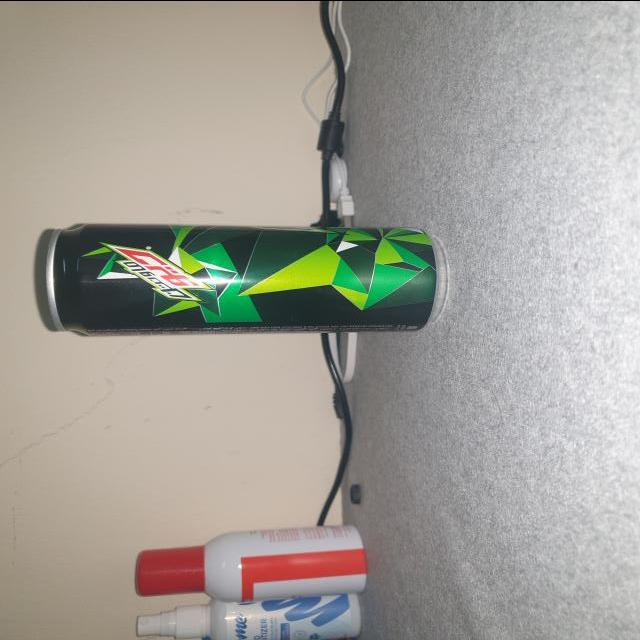can: (50, 222, 448, 336)
